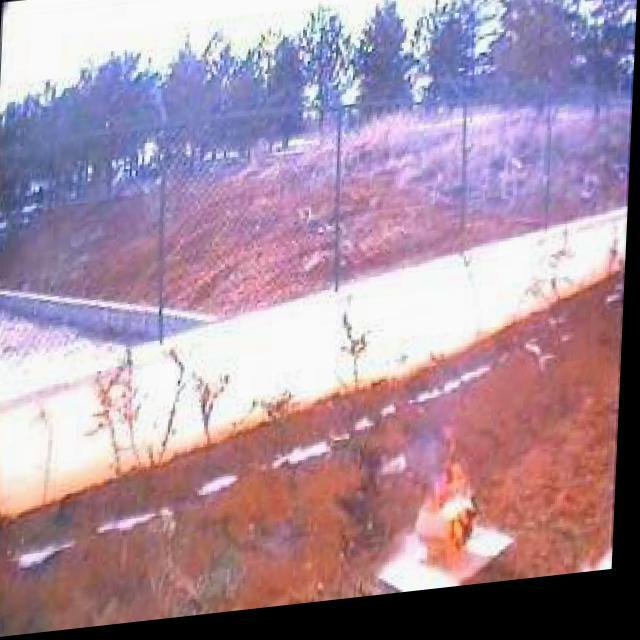Fire: (392, 394, 501, 554)
